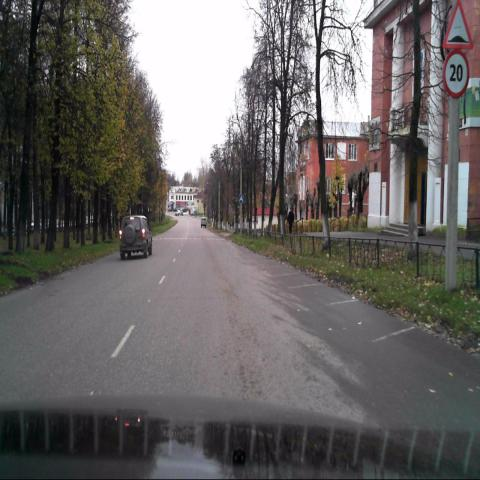1_17: (443, 1, 472, 51)
3_24: (443, 52, 470, 97)
